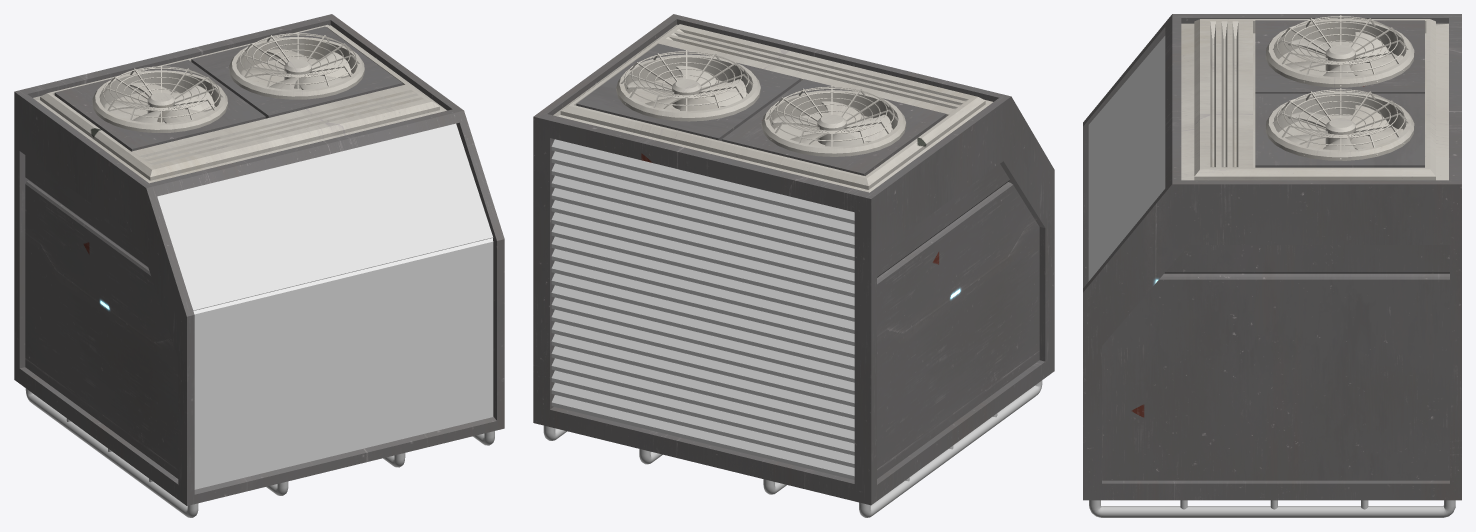
The model's file is KB3D_CBP_ACunit_A.fbx.
3 views of the same model, side by side, from view 1: azimuth 30°, elevation 25°; view 2: azimuth 150°, elevation 25°; view 3: azimuth 270°, elevation 25° (orthographic). The views are drawn at different scales.
Parts seen in each view (by area): view 1: KB3D_CBP_ACunit_A_Main; view 2: KB3D_CBP_ACunit_A_Main; view 3: KB3D_CBP_ACunit_A_Main.
Boxes of the visible parts, x1=… form: KB3D_CBP_ACunit_A_Main: x1=14, y1=14, x2=504, y2=517; KB3D_CBP_ACunit_A_Main: x1=533, y1=14, x2=1054, y2=517; KB3D_CBP_ACunit_A_Main: x1=1083, y1=14, x2=1461, y2=517.
Size of the model in its own units: 198 by 196 by 186.
